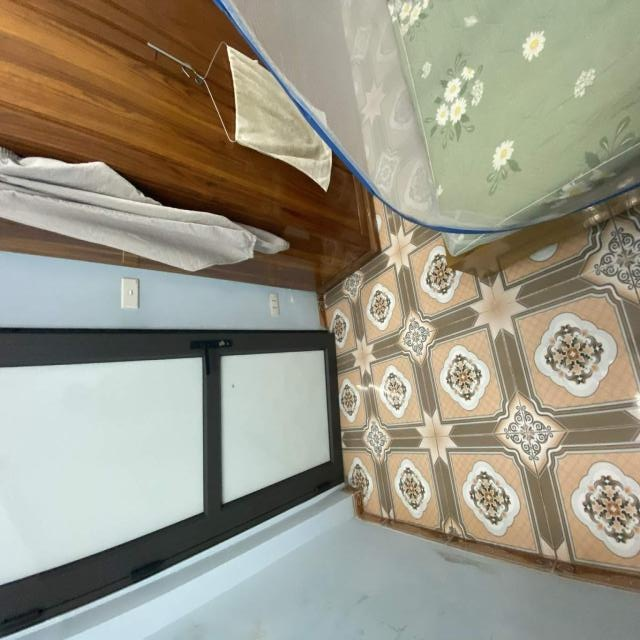outlet: (268, 293, 280, 317)
